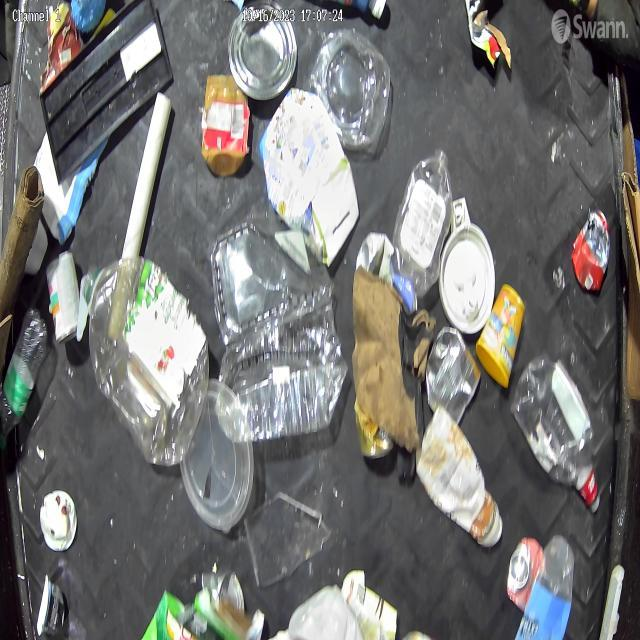plastic_bottle: (80, 262, 210, 452), (512, 347, 602, 510), (216, 322, 343, 437), (396, 158, 452, 296), (0, 296, 45, 441)
